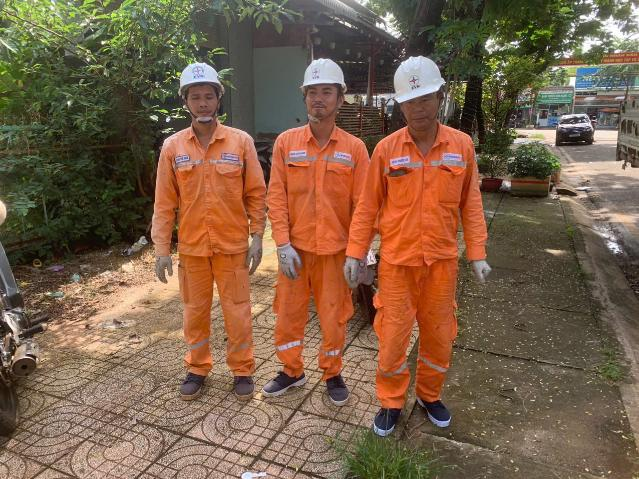gloves: (144, 251, 197, 287), (272, 240, 312, 282), (467, 253, 504, 292), (343, 252, 373, 296), (244, 234, 267, 279)
helmet: (375, 47, 459, 112), (146, 62, 234, 102), (296, 52, 361, 92)
shoes: (264, 360, 320, 403), (409, 385, 456, 436), (373, 387, 411, 445), (178, 352, 211, 412), (317, 370, 358, 416), (224, 364, 259, 411)
